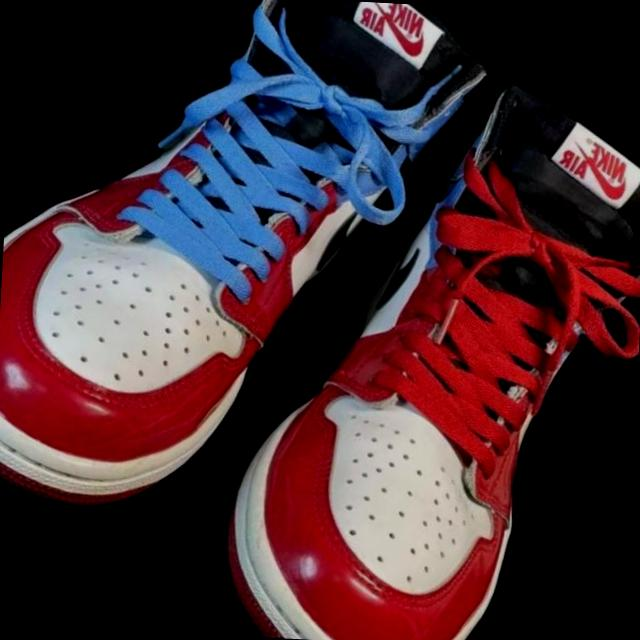nike_original_jordan: (0, 0, 507, 588), (143, 47, 640, 640)
